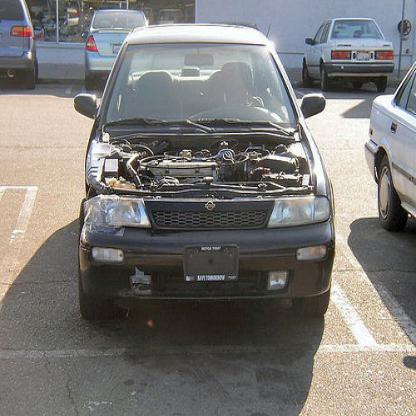car: (74, 23, 337, 323), (365, 60, 416, 233), (302, 18, 396, 94), (81, 9, 156, 92), (1, 1, 44, 91)
